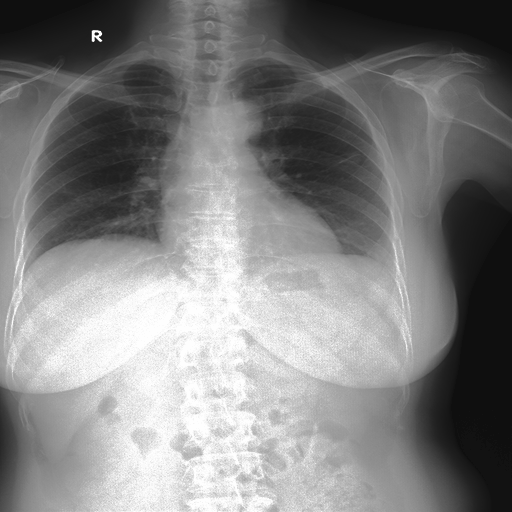Calcification: (361, 240, 402, 281)
Consolidation: (213, 99, 261, 149)
Nodule/Mass: (152, 206, 344, 268)
Pleural effusion: (361, 240, 402, 281)
Pneumothorax: (332, 152, 360, 166)
